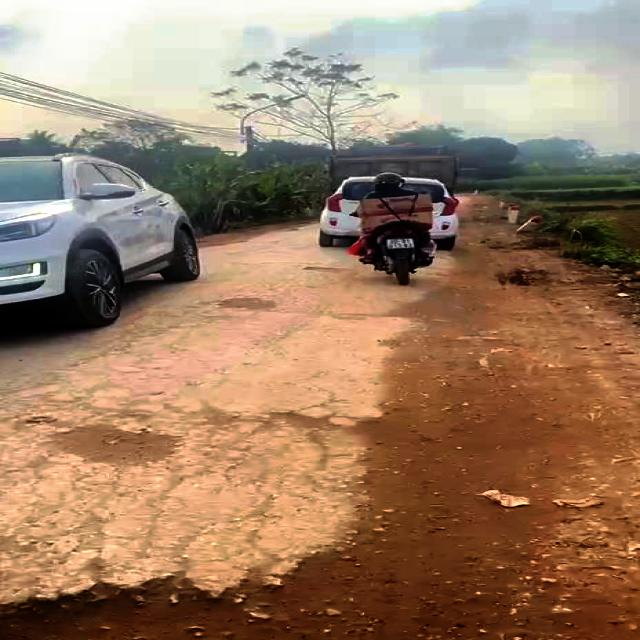pothole: (0, 548, 536, 640), (45, 424, 196, 475), (200, 402, 379, 445), (217, 296, 284, 312)
